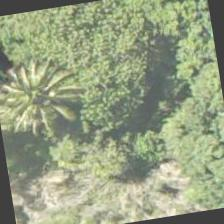Kelapa_Sawit: (0, 45, 83, 147)
